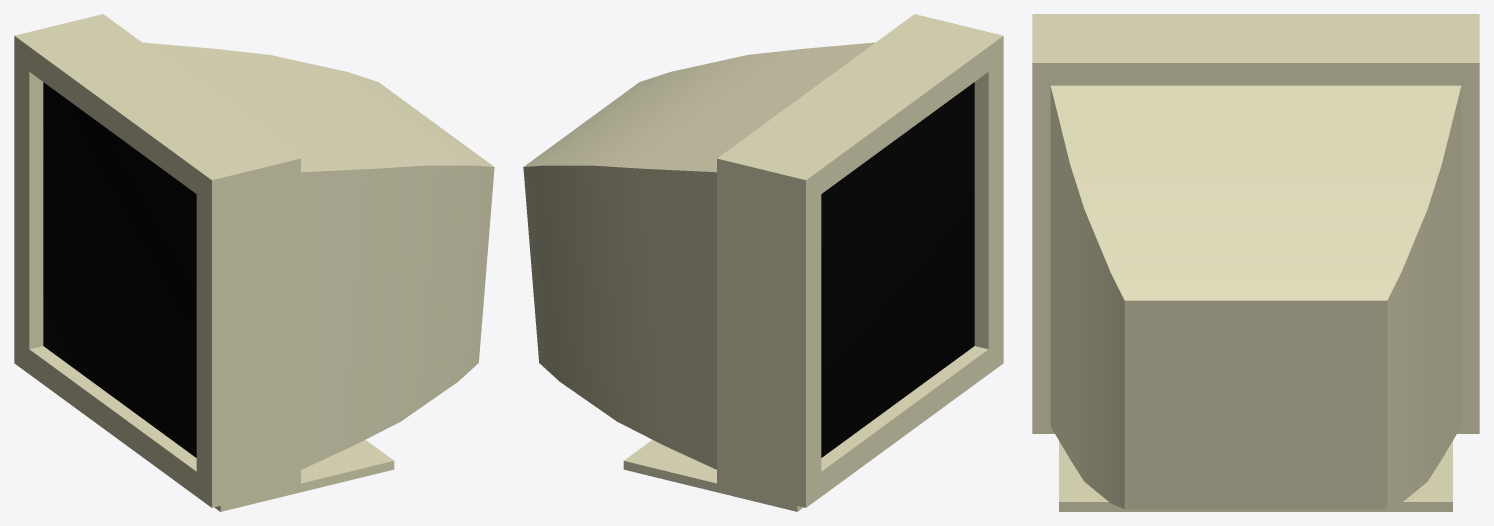
The model's file is Pantialla.fbx.
3 views of the same model, side by side, from view 1: azimuth 30°, elevation 25°; view 2: azimuth 150°, elevation 25°; view 3: azimuth 270°, elevation 25° (orthographic). The views are drawn at different scales.
Parts seen in each view (by area): view 1: Cube; view 2: Cube; view 3: Cube.
Boxes of the visible parts, box(x1,y1,x2,y2) form: Cube: box(14, 14, 494, 511); Cube: box(523, 14, 1003, 511); Cube: box(1032, 14, 1479, 511).
Size of the model in its own units: 83.01 by 84.68 by 87.8.
